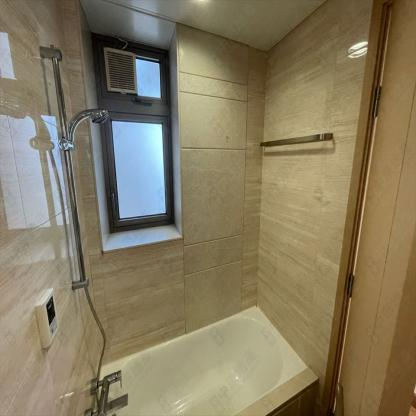Bathtub: (87, 301, 319, 415)
Exhaust Fan: (106, 46, 137, 91)
